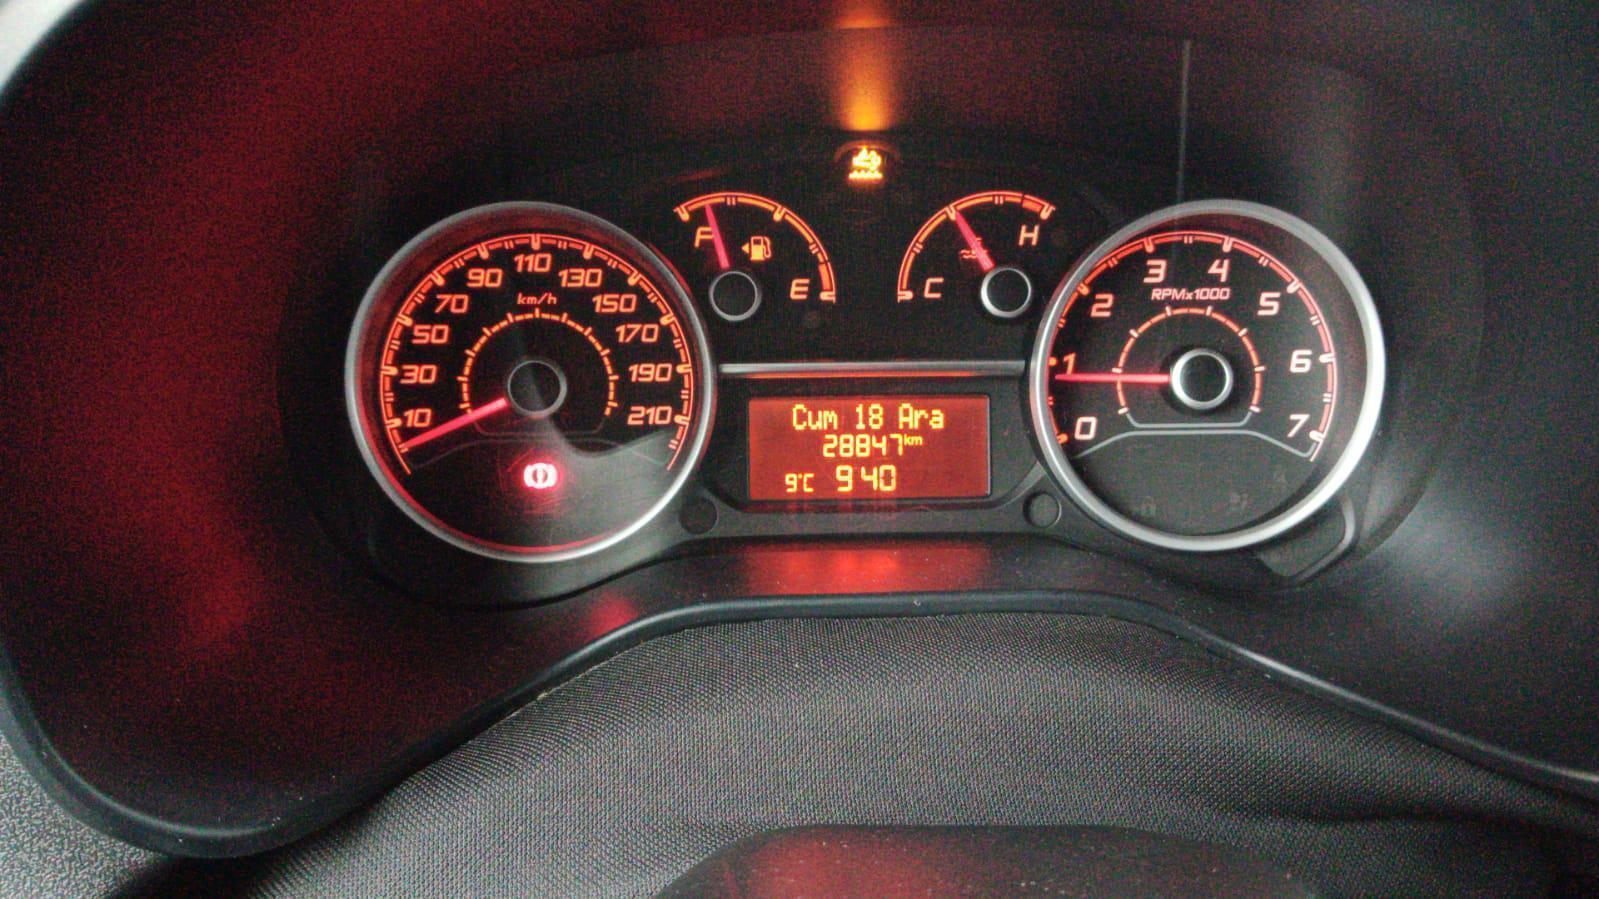0: (877, 463, 897, 492)
1: (852, 402, 866, 430)
2: (820, 432, 839, 457)
4: (858, 465, 877, 491), (870, 432, 888, 456)
7: (888, 432, 903, 456)
8: (866, 402, 884, 430), (839, 432, 856, 457), (854, 432, 870, 457)
9: (834, 463, 853, 493), (783, 472, 797, 492)
X: (790, 402, 808, 431), (896, 401, 914, 430), (928, 408, 946, 430), (913, 408, 927, 430), (808, 408, 821, 431), (823, 409, 837, 430), (803, 472, 815, 493), (909, 435, 924, 447), (902, 432, 910, 446)
odometer: (742, 387, 996, 510)
